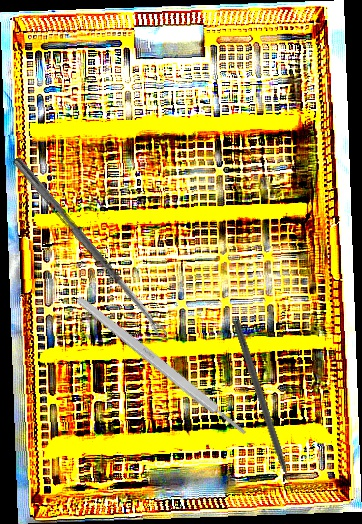Hook Surgical: (230, 319, 299, 501)
Scalpel Handle: (74, 293, 249, 439)
Surgical Spoon: (11, 156, 168, 340)
